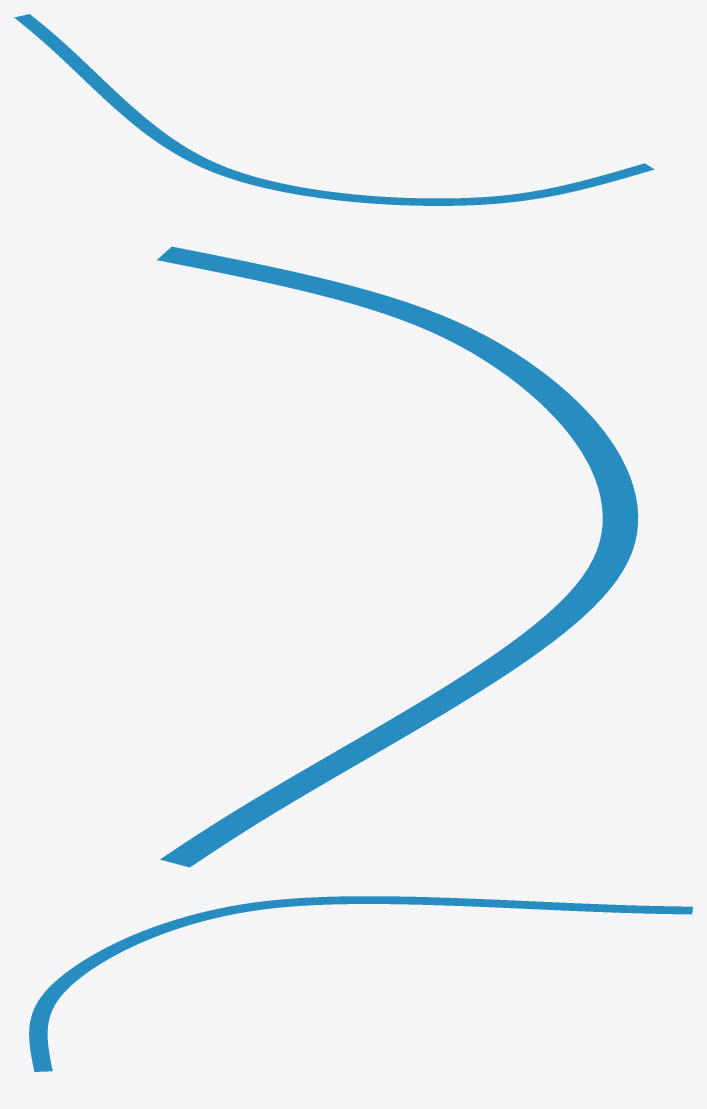
The model's file is guide.glb.
3 renders of one model, top to bottom at view 1: azimuth 30°, elevation 25°; view 2: azimuth 150°, elevation 25°; view 3: azimuth 270°, elevation 25°, orthographic. The views are drawn at different scales.
Parts seen in each view (by area): view 1: static; view 2: static; view 3: static.
Part boxes in pixels (x1,y1,x2,y2): static: (14,14,654,205); static: (157,246,638,867); static: (29,896,692,1071).
Bounding box in the file's own units: 8.13 × 0 × 11.74.
